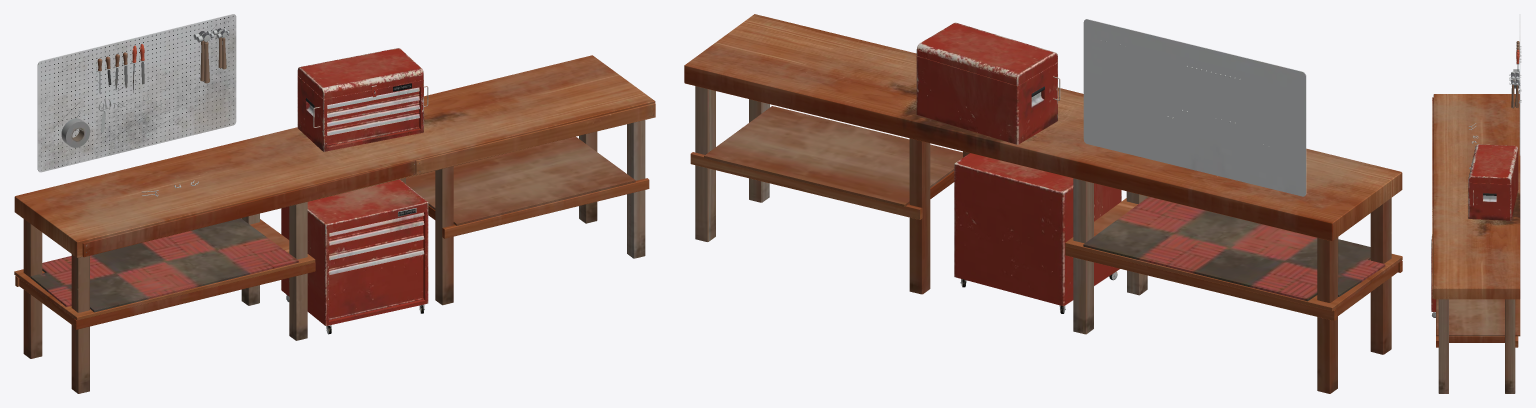
Rendered from mesa-trabajo-12.glb.
3 renders of one model, left to right at view 1: azimuth 30°, elevation 25°; view 2: azimuth 150°, elevation 25°; view 3: azimuth 270°, elevation 25°, orthographic. The views are drawn at different scales.
Parts seen in each view (by area): view 1: Object_4, Object_3, Object_6, Object_5; view 2: Object_4, Object_3, Object_6, Object_5; view 3: Object_4, Object_6, Object_5, Object_3.
Part boxes in pixels (bbox=[...]): Object_4: bbox=[14, 29, 655, 330]; Object_3: bbox=[15, 14, 653, 334]; Object_6: bbox=[23, 76, 645, 393]; Object_5: bbox=[96, 37, 428, 325]; Object_4: bbox=[684, 14, 1402, 311]; Object_3: bbox=[690, 19, 1402, 320]; Object_6: bbox=[695, 62, 1391, 393]; Object_5: bbox=[916, 22, 1268, 306]; Object_4: bbox=[1431, 51, 1520, 336]; Object_6: bbox=[1433, 183, 1515, 393]; Object_5: bbox=[1431, 41, 1521, 311]; Object_3: bbox=[1432, 14, 1520, 347].
Bounding box in the file's own units: 372 × 175 × 72.79.
Materials: 1 (1 with a texture image).
